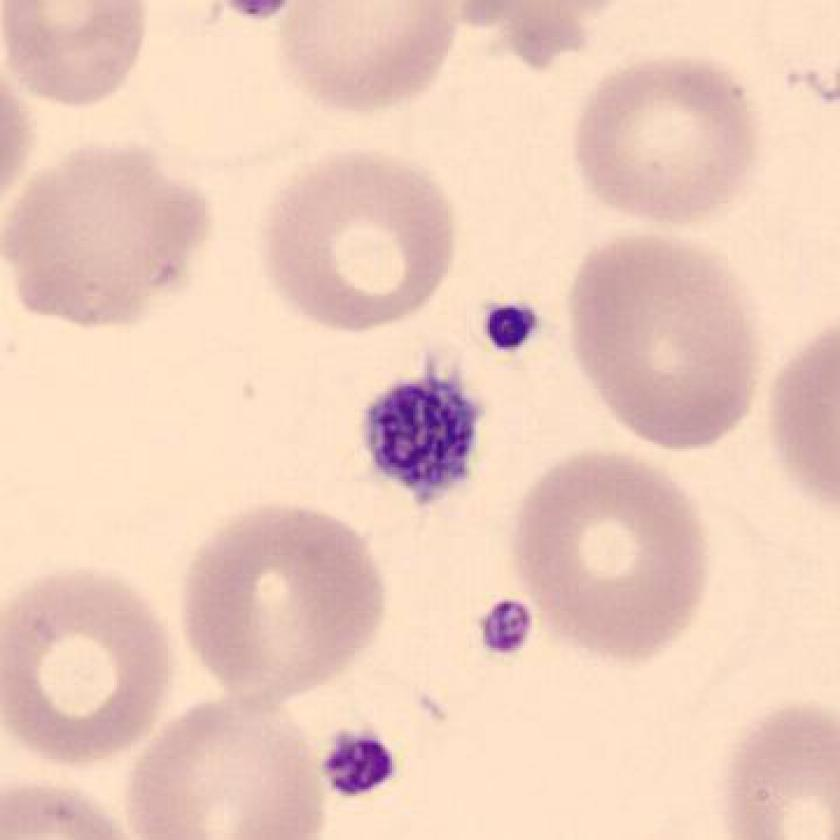platelets: (349, 362, 498, 510), (309, 714, 407, 811), (465, 582, 540, 667), (470, 290, 549, 367)
